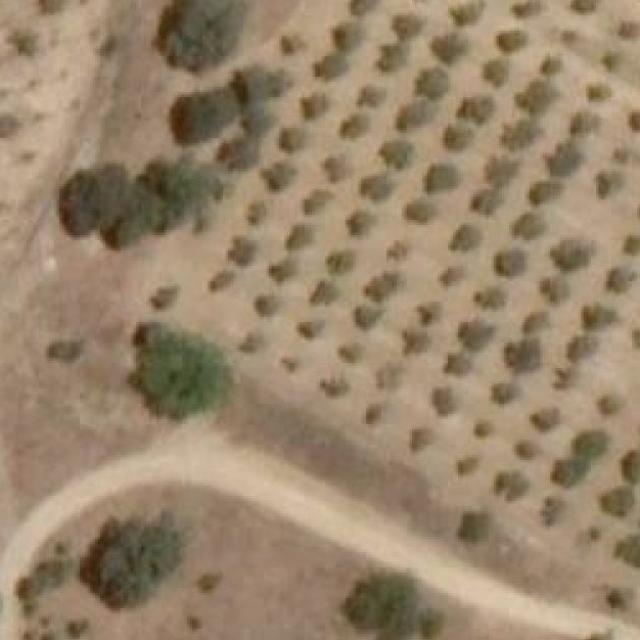Tree: (134, 322, 226, 417), (87, 520, 177, 606), (345, 572, 427, 640), (62, 162, 139, 233), (161, 0, 241, 66), (151, 158, 221, 220), (175, 87, 236, 136), (502, 332, 543, 378), (236, 64, 282, 102), (502, 116, 543, 156), (458, 508, 497, 547), (566, 427, 610, 461), (552, 238, 591, 274), (547, 141, 586, 175), (518, 82, 558, 115), (456, 317, 492, 351), (480, 157, 520, 187), (509, 213, 548, 243), (488, 470, 528, 499), (608, 534, 640, 570), (415, 65, 449, 98), (374, 39, 405, 74), (397, 102, 432, 133), (594, 489, 630, 519), (397, 199, 438, 225), (220, 138, 256, 167), (364, 273, 400, 302), (591, 167, 625, 197), (494, 249, 524, 282), (361, 174, 400, 199), (335, 113, 369, 141), (425, 164, 459, 192), (560, 335, 596, 361), (448, 3, 483, 29), (279, 225, 315, 250), (461, 95, 495, 121), (300, 92, 330, 121), (332, 21, 361, 51), (392, 10, 422, 39), (300, 187, 328, 218), (537, 49, 565, 80), (254, 294, 287, 320), (618, 444, 640, 483), (430, 384, 456, 417), (453, 225, 487, 250), (320, 153, 349, 182), (443, 125, 473, 153), (606, 266, 635, 294), (323, 248, 354, 274), (468, 187, 499, 213), (264, 161, 292, 189), (315, 54, 345, 80), (433, 36, 466, 59), (245, 107, 274, 133), (384, 138, 410, 167), (320, 373, 349, 399), (552, 460, 581, 486), (269, 259, 299, 284), (494, 31, 524, 56), (528, 177, 558, 202), (149, 286, 180, 310), (49, 342, 80, 366), (540, 279, 568, 305), (571, 109, 596, 138), (310, 281, 340, 305), (8, 34, 39, 57), (586, 304, 611, 332), (601, 49, 630, 73), (475, 286, 504, 310), (379, 363, 403, 392), (284, 125, 308, 153), (399, 330, 427, 354), (540, 494, 560, 527), (484, 61, 509, 87), (415, 300, 441, 325), (613, 146, 640, 170), (349, 210, 372, 238), (532, 407, 560, 430), (231, 238, 257, 262), (335, 337, 361, 361), (345, 0, 376, 20), (13, 576, 38, 600), (522, 310, 548, 333), (407, 427, 430, 453), (616, 18, 640, 42), (351, 307, 376, 330), (446, 353, 471, 376), (356, 85, 384, 105), (511, 0, 539, 20), (492, 381, 515, 405), (468, 419, 494, 440), (294, 320, 320, 340), (514, 440, 540, 460), (241, 335, 265, 356), (550, 371, 574, 392), (208, 269, 233, 289), (453, 455, 478, 475), (589, 82, 609, 105), (361, 404, 381, 427), (386, 240, 407, 261), (200, 572, 221, 593), (0, 112, 16, 137), (248, 202, 267, 223), (49, 540, 70, 559), (570, 0, 596, 15), (598, 394, 617, 414), (279, 36, 303, 51), (441, 266, 461, 284), (603, 590, 622, 608), (626, 233, 640, 256), (563, 26, 579, 46), (67, 622, 88, 637), (629, 107, 640, 133), (586, 523, 601, 542), (39, 0, 59, 10), (632, 325, 640, 349), (584, 634, 607, 640), (637, 199, 640, 220)
